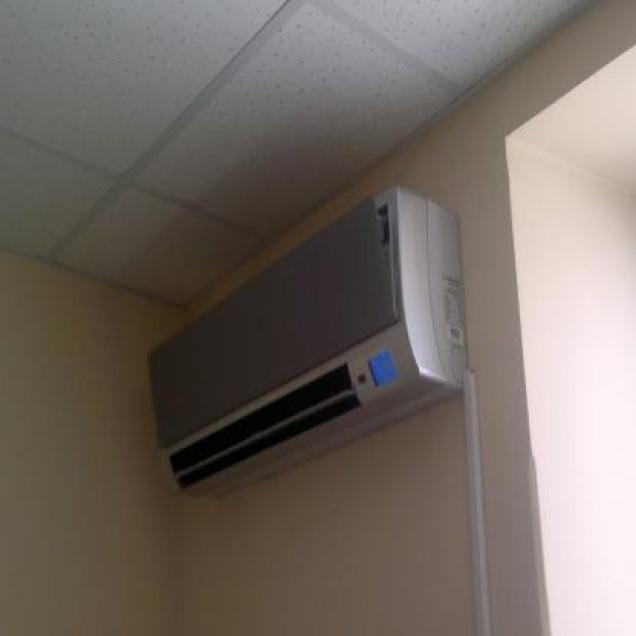AC: (145, 184, 469, 500)
